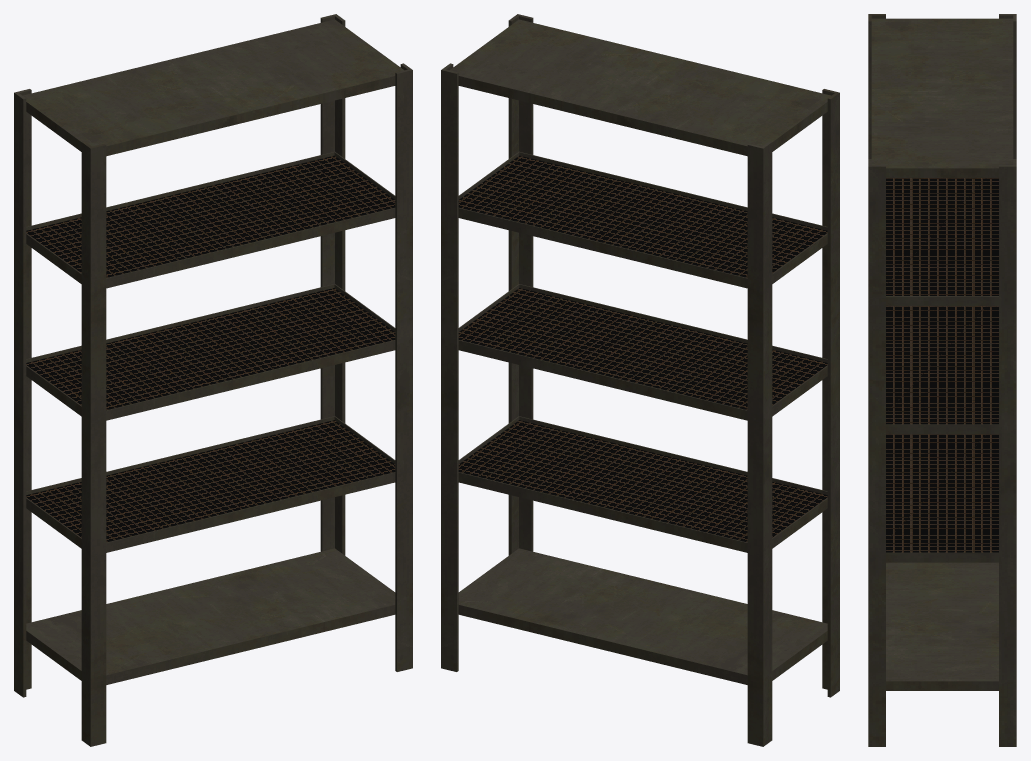
The model's file is shelf_mx_6_2.glb.
3 renders of one model, left to right at view 1: azimuth 30°, elevation 25°; view 2: azimuth 150°, elevation 25°; view 3: azimuth 270°, elevation 25°, orthographic. The views are drawn at different scales.
Visible parts, largest first — view 1: shelf_mx_6_2; view 2: shelf_mx_6_2; view 3: shelf_mx_6_2.
Part boxes in pixels (<box>): shelf_mx_6_2: <box>14,14,412,746</box>; shelf_mx_6_2: <box>441,14,839,746</box>; shelf_mx_6_2: <box>868,14,1016,746</box>.
Bounding box in the file's own units: 1.02 × 1.81 × 0.42.
Materials: 2 (2 with a texture image).
